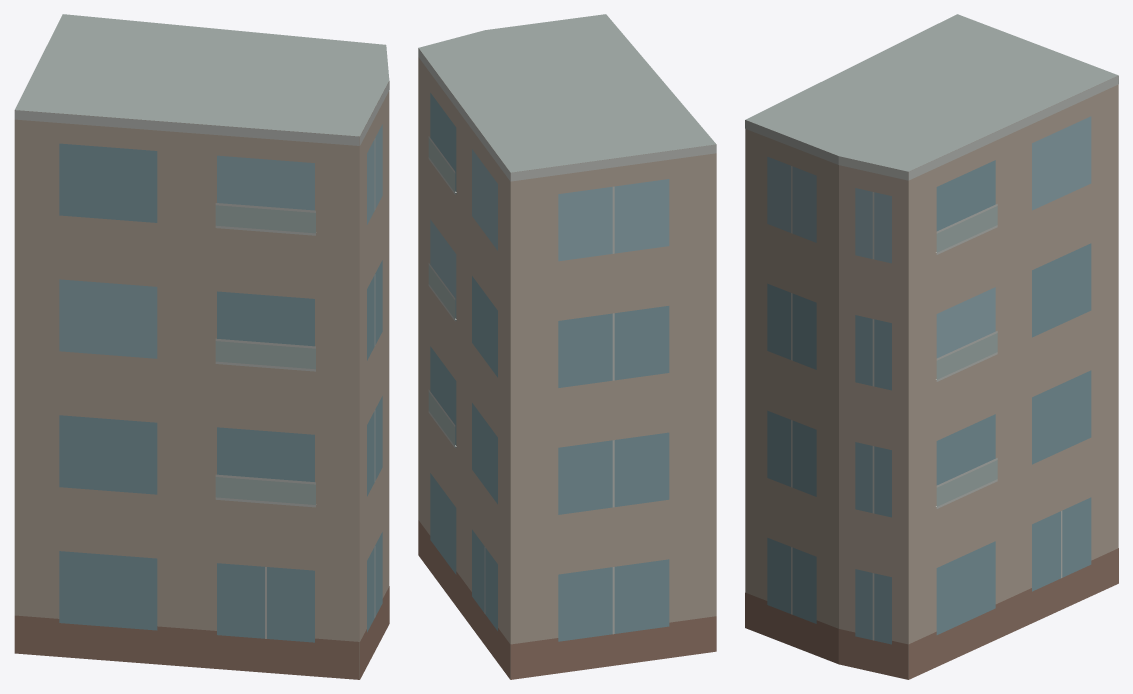
Rendered from survey-upis-32894690.glb.
3 renders of one model, left to right at view 1: azimuth 30°, elevation 25°; view 2: azimuth 150°, elevation 25°; view 3: azimuth 270°, elevation 25°, orthographic. The views are drawn at different scales.
Visible parts, largest first — view 1: survey-upis-32894690.tmp; view 2: survey-upis-32894690.tmp; view 3: survey-upis-32894690.tmp.
Boxes of the visible parts, box(x1,y1,x2,y2) form: survey-upis-32894690.tmp: box(14, 14, 389, 679); survey-upis-32894690.tmp: box(418, 14, 716, 679); survey-upis-32894690.tmp: box(745, 14, 1118, 679).
Bounding box in the file's own units: 9.24 × 13.86 × 9.24.
